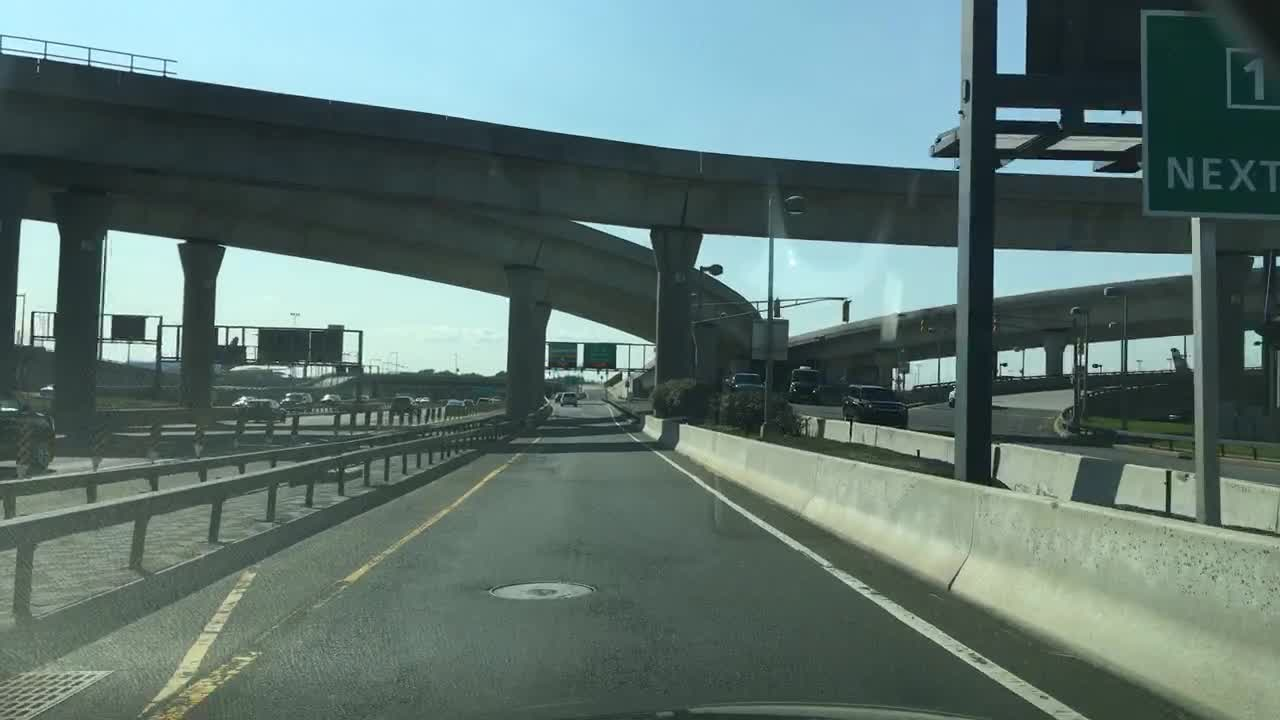car: (0, 385, 56, 474), (839, 379, 913, 430), (786, 363, 825, 405), (237, 396, 292, 424), (276, 389, 317, 414), (723, 370, 763, 395), (384, 395, 415, 414), (945, 381, 963, 411), (443, 397, 464, 419), (317, 392, 345, 406), (558, 391, 580, 408), (475, 393, 493, 411), (462, 395, 477, 414), (490, 393, 505, 408), (551, 389, 566, 402), (418, 393, 431, 405), (411, 394, 423, 407), (575, 389, 587, 402), (358, 392, 372, 403)
traffic light: (918, 316, 935, 335), (839, 300, 851, 325), (772, 294, 781, 318)
traffic sign: (1140, 3, 1278, 220), (1024, 0, 1139, 87), (254, 329, 343, 363), (748, 319, 788, 361), (108, 311, 149, 343), (209, 341, 248, 367), (583, 342, 616, 371), (549, 338, 578, 370), (893, 361, 910, 374), (323, 322, 347, 330)
